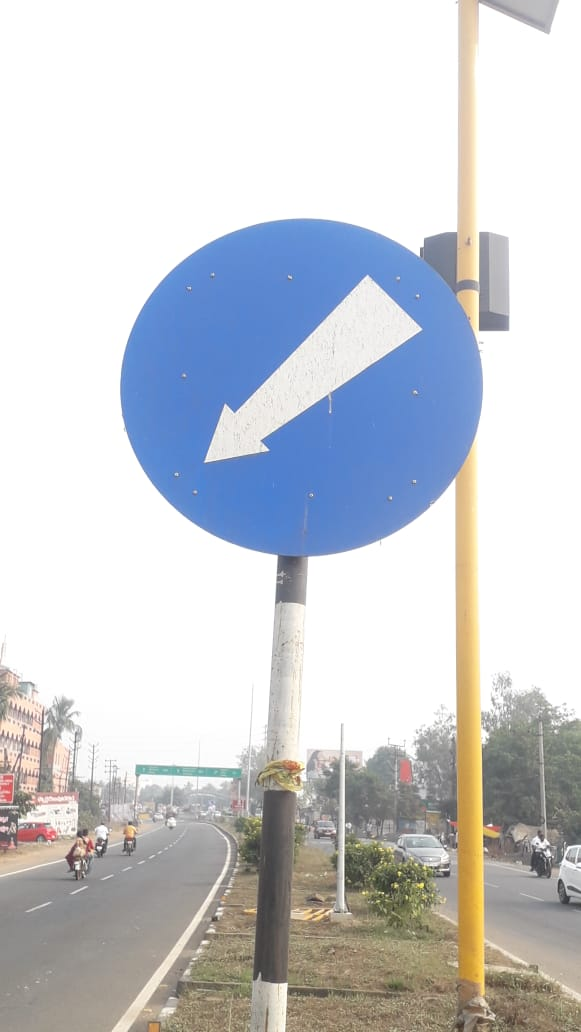go left: (124, 188, 500, 608)
